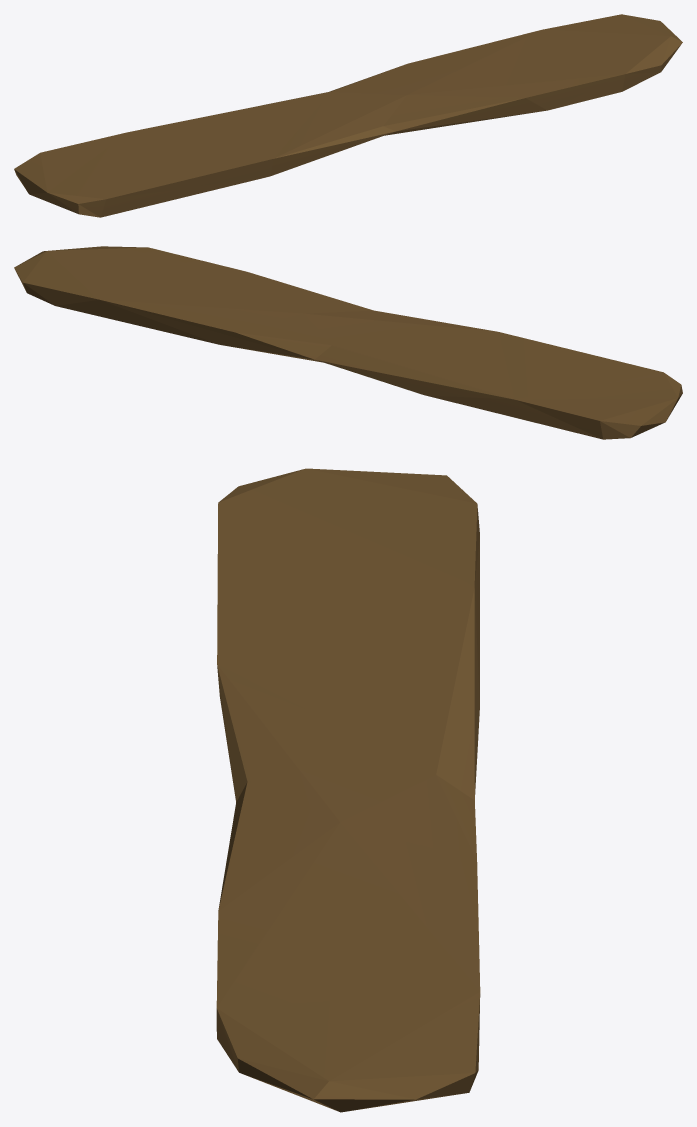
File: Board_01.fbx
3 renders of one model, top to bottom at view 1: azimuth 30°, elevation 25°; view 2: azimuth 150°, elevation 25°; view 3: azimuth 270°, elevation 25°, orthographic. The views are drawn at different scales.
Visible parts, largest first — view 1: Board_01; view 2: Board_01; view 3: Board_01.
Part boxes in pixels (x1,y1,x2,y2): Board_01: (14, 14, 682, 217); Board_01: (14, 246, 682, 439); Board_01: (216, 468, 480, 1112).
Size of the model in its own units: 1.78 by 0.0538 by 0.3181.
